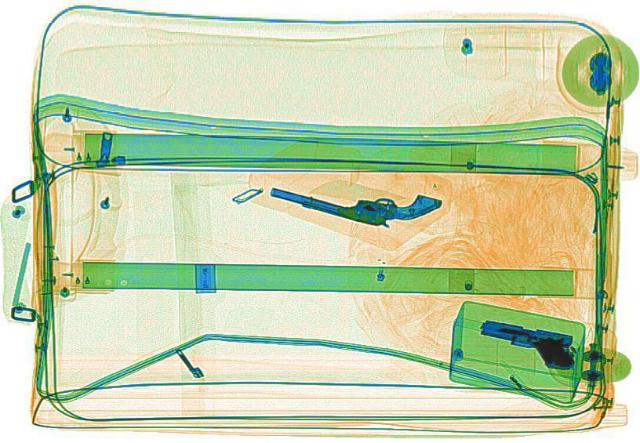Gun: (260, 160, 448, 237), (467, 312, 588, 371)
